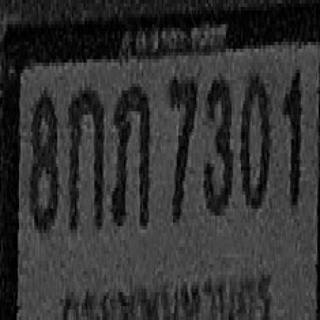A01: (68, 87, 104, 230)
A32: (112, 82, 150, 224)
N00: (240, 70, 270, 209)
N01: (282, 68, 301, 207)
N03: (203, 75, 232, 214)
N07: (168, 75, 197, 221)
N08: (29, 89, 58, 231)
